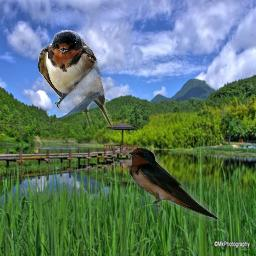Swallow: (38, 30, 113, 128), (126, 146, 221, 221)
